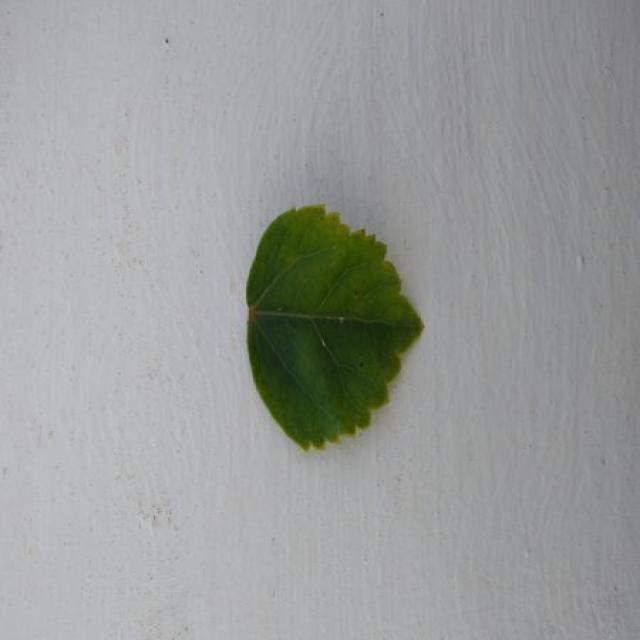Hibiscus: (247, 205, 423, 448)
